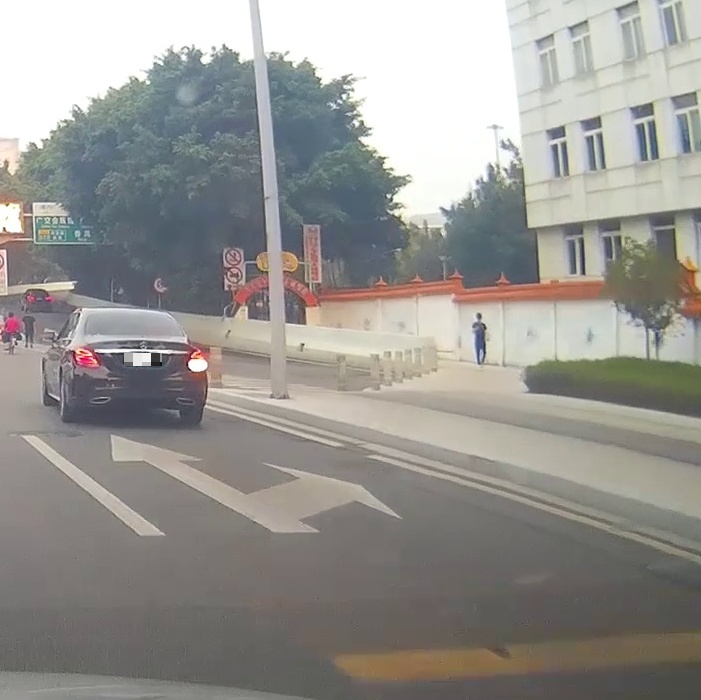L_light: (72, 347, 99, 367)
R_light: (187, 349, 207, 372)
T_light: (122, 312, 138, 317)
day-right: (68, 307, 208, 425)
plate_1: (124, 353, 162, 366)
